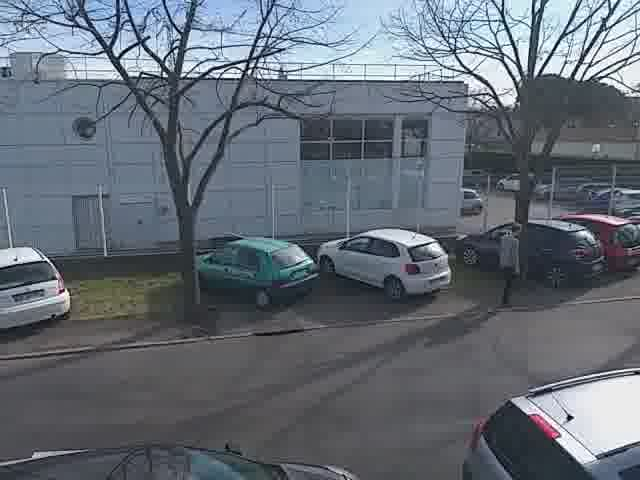persona: (491, 216, 530, 309)
